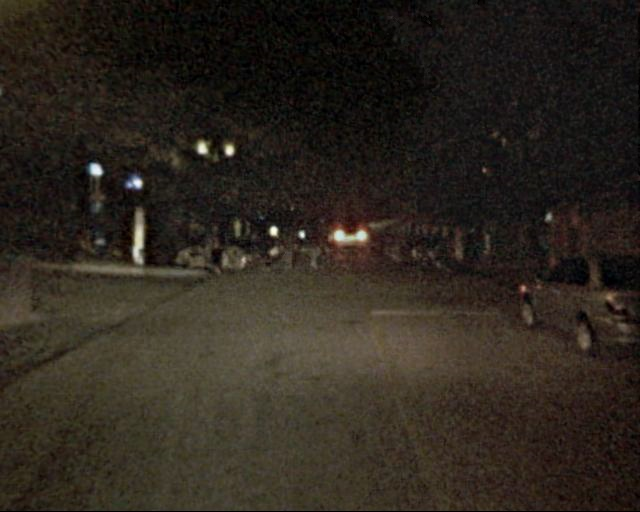person: (203, 219, 227, 278), (306, 223, 327, 275), (253, 220, 275, 267), (276, 223, 297, 271)
